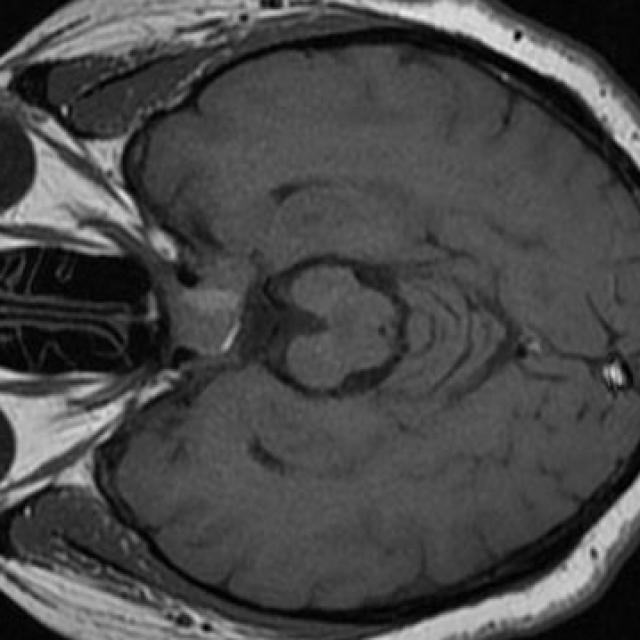pituitary: (176, 258, 257, 357)
